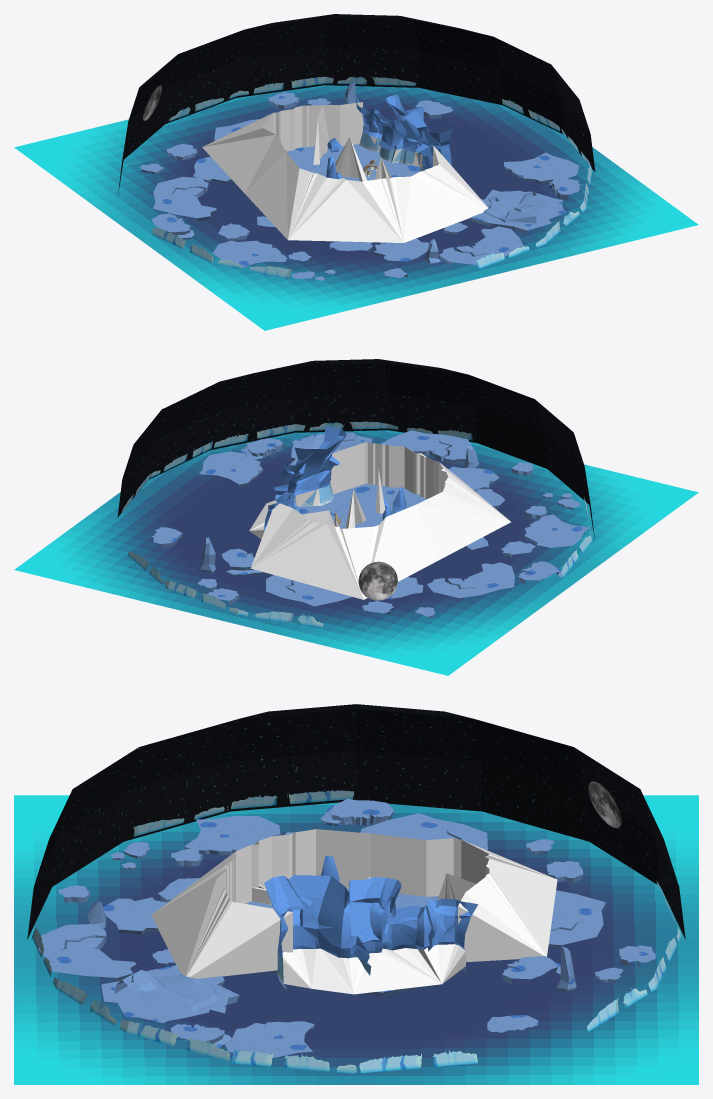
Rendered from ice.fbx.
3 views of the same model, one above another, from view 1: azimuth 30°, elevation 25°; view 2: azimuth 150°, elevation 25°; view 3: azimuth 270°, elevation 25° (orthographic). The views are drawn at different scales.
Parts seen in each view (by area): view 1: Level7_shuimian, Level7_sky, Level7_pengzhuang, Level7_dimian_1, Level7_bingchuan, Level7_dimian, Level7_pengzhuang2, Level7_yuanshan09, Level7_pengzhuang1, Level7_yuanshan08, Level7_yuanshan10, Level7_yuanshan03; view 2: Level7_shuimian, Level7_sky, Level7_pengzhuang, Level7_dimian_1, Level7_bingchuan, Level7_dimian, Level7_moon, Level7_pengzhuang4, Level7_yuanshan02, Level7_yuanshan08, Level7_yuanshan05, Level7_yuanshan06; view 3: Level7_shuimian, Level7_sky, Level7_pengzhuang, Level7_dimian_1, Level7_bingchuan, Level7_pengzhuang4, Level7_yuanshan04, Level7_yuanshan07, Level7_yuanshan05, Level7_yuanshan09, Level7_moon, Level7_dimian (+4 smaller).
Part boxes in pixels (x1,y1,x2,y2): Level7_shuimian: (14, 85, 698, 330); Level7_sky: (118, 14, 595, 195); Level7_pengzhuang: (202, 102, 487, 242); Level7_dimian_1: (140, 82, 581, 280); Level7_bingchuan: (355, 94, 452, 171); Level7_dimian: (286, 144, 420, 181); Level7_pengzhuang2: (335, 137, 367, 181); Level7_yuanshan09: (152, 227, 212, 262); Level7_pengzhuang1: (313, 105, 328, 164); Level7_yuanshan08: (237, 76, 325, 95); Level7_yuanshan10: (325, 76, 415, 85); Level7_yuanshan03: (211, 256, 292, 278); Level7_shuimian: (14, 430, 698, 675); Level7_sky: (117, 359, 594, 540); Level7_pengzhuang: (251, 442, 510, 599); Level7_dimian_1: (152, 430, 588, 618); Level7_bingchuan: (264, 426, 346, 530); Level7_dimian: (298, 484, 426, 528); Level7_moon: (358, 561, 397, 600); Level7_pengzhuang4: (249, 489, 320, 539); Level7_yuanshan02: (237, 609, 323, 627); Level7_yuanshan08: (167, 581, 238, 615); Level7_yuanshan05: (214, 424, 295, 447); Level7_yuanshan06: (295, 421, 387, 430); Level7_shuimian: (14, 795, 698, 1084); Level7_sky: (27, 704, 685, 939); Level7_pengzhuang: (151, 829, 557, 978); Level7_dimian_1: (38, 798, 655, 1057); Level7_bingchuan: (264, 875, 478, 989); Level7_pengzhuang4: (282, 944, 465, 994); Level7_yuanshan04: (359, 1050, 477, 1072); Level7_yuanshan07: (232, 1049, 356, 1073); Level7_yuanshan05: (126, 1021, 229, 1061); Level7_yuanshan09: (232, 790, 354, 809); Level7_moon: (588, 781, 621, 828); Level7_dimian: (246, 888, 455, 996).
Size of the model in its own units: 24983 by 6943 by 24983.
